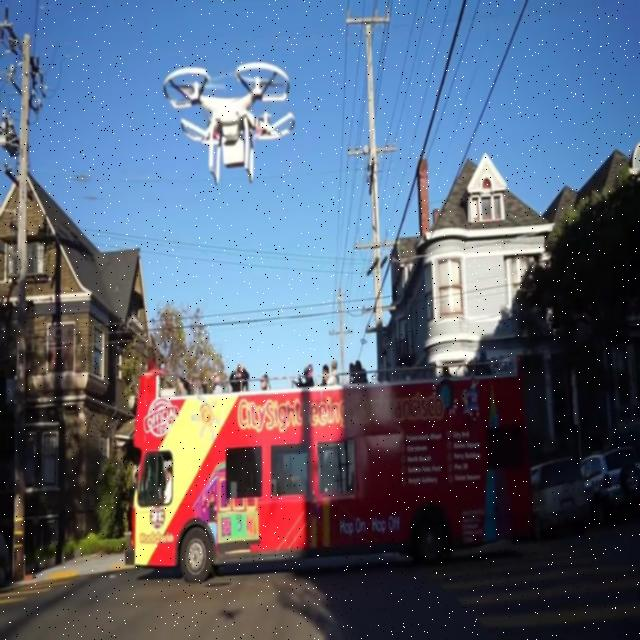UAV: (163, 61, 295, 186)
